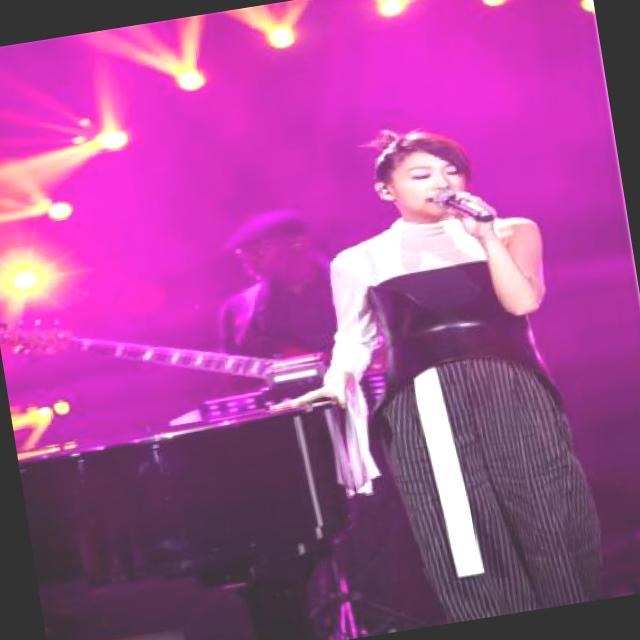Person: (293, 92, 619, 634)
